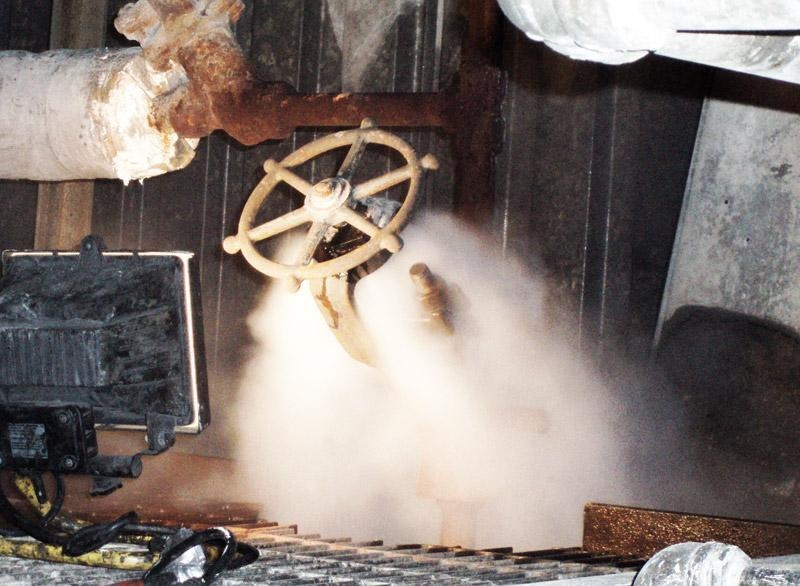smoke: (277, 286, 574, 516)
